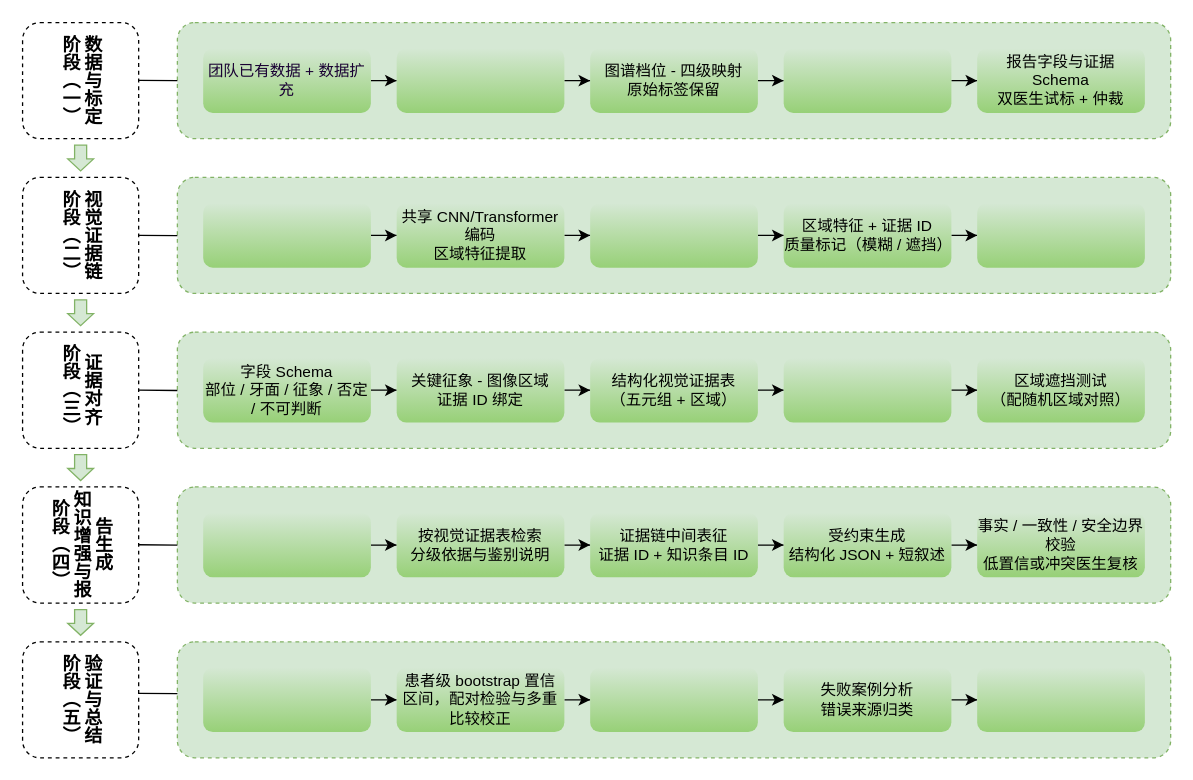
The diagram is 1193 pixels wide and 780 high, and some of its shapes have lost their labels. The shapes that lost their labels are listed below. From the top down, each one's box as (x1, y1, x2, y2) in pixels, then its label:
(396, 48, 564, 112): 质量筛查、去重、脱敏 图像 / 患者 / 类别盘点
(783, 48, 951, 112): 数据划分
(203, 203, 370, 267): 牙齿区域定位与裁剪（检测 / 分割）
(590, 203, 757, 267): 有序分级（Ordinal） +EDL证据与不确定性
(977, 203, 1144, 267): 校准与选择性预测 低置信样本标记
(783, 357, 951, 422): 字段级 F1 证据 ID 命中率
(203, 512, 370, 577): 知识库：来源 / 页码 / 适用范围 / 等级 / 版本 / 审核
(203, 667, 370, 731): 实验矩阵 分级 / 报告 / 证据 / 消融
(590, 667, 757, 731): 独立机构同模态补标集
(977, 667, 1144, 731): 研究结论、原型系统
